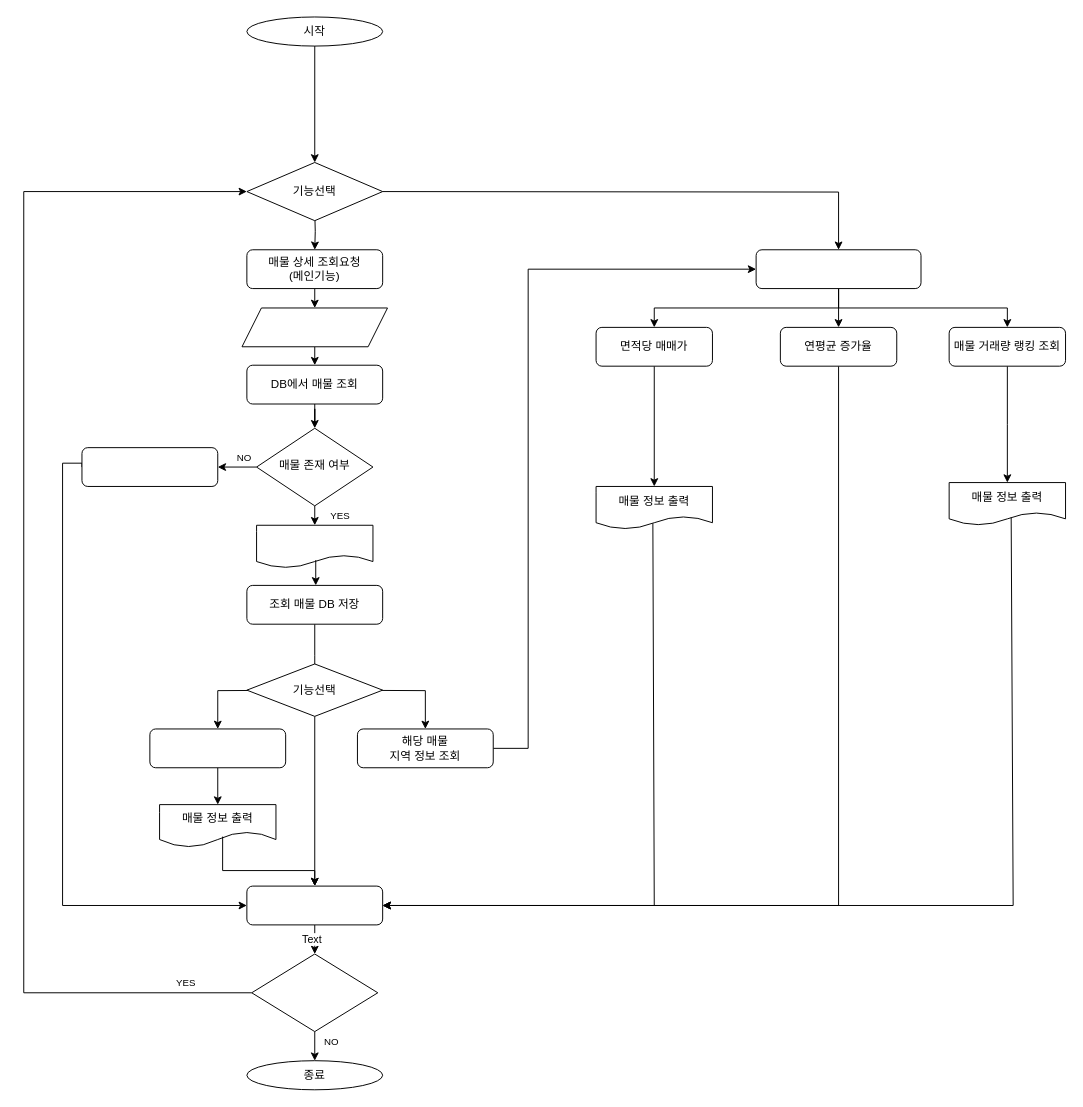
This 1083x1107 diagram has some shape labels left out. Each missing label, with the centre of its shape:
구 & 아파트 입력: the point at 314,327
구 별 분석 정보 조회 (서브기능): the point at 838,269
다른 매물 조회 여부 확인: the point at 314,905
다른 매물을 조회 하시겠습니까?: the point at 314,992
매물 정보 없음: the point at 149,466
매물 정보 출력 (최근거래가): the point at 314,546
해당 매물 지도 조회: the point at 217,748
